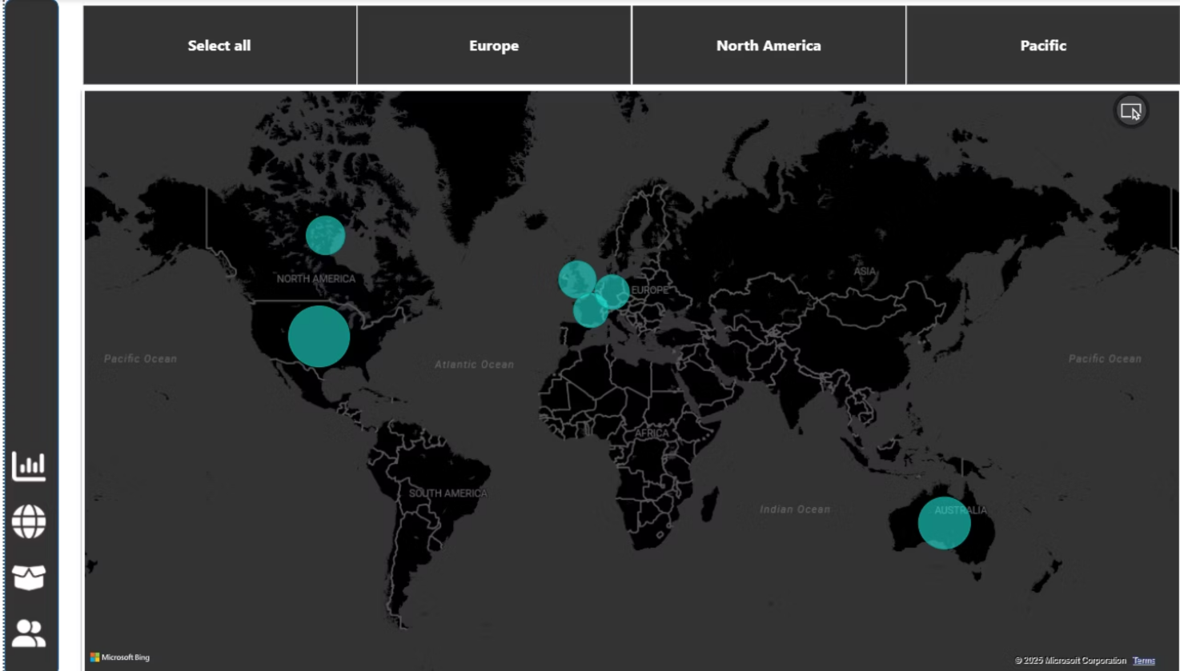

This screenshot's page, from the dashboard's own definition file:
{"tool":"powerbi","page":{"name":"Map","canvas":[1280,720],"ordinal":1},"visuals":[{"type":"map","fields":{"Category":["Territory Lookup.Country"],"Size":["Measure Table.Total Orders"]},"box":[80.6,89.7,1171.1,629.9],"z":0},{"type":"actionButton","box":[4,474.7,50.4,44.3],"z":1000,"group":"g1"},{"type":"slicer","fields":{"Values":["Territory Lookup.Continent"]},"box":[57.4,0,1214.5,97.8],"z":1000},{"type":"shape","title":"Left KPI","box":[0,0,57.5,720.2],"z":2000},{"type":"actionButton","box":[4,533.8,50.4,44.3],"z":2000,"group":"g1"},{"type":"actionButton","box":[4,593,50.4,44.3],"z":3000,"group":"g1"},{"type":"group","id":"g1","title":"Navigator Buttons","box":[4,474.7,50.4,221.7],"z":3000},{"type":"actionButton","box":[4,652.1,50.4,44.3],"z":4000,"group":"g1"}]}

Visuals, with their boxes on the page's 1280x720 design canvas (x1, y1, x2, y2). These are canvas units, not pixel positions in the 1180x671 screenshot, which may show the page scaled, cropped or inside an application window:
map - Territory Lookup.Country x Measure Table.Total Orders: 81:90:1252:720
actionButton: 4:475:54:519
slicer - Territory Lookup.Continent: 57:0:1272:98
"Left KPI" shape: 0:0:58:720
actionButton: 4:534:54:578
actionButton: 4:593:54:637
"Navigator Buttons" group: 4:475:54:696
actionButton: 4:652:54:696
